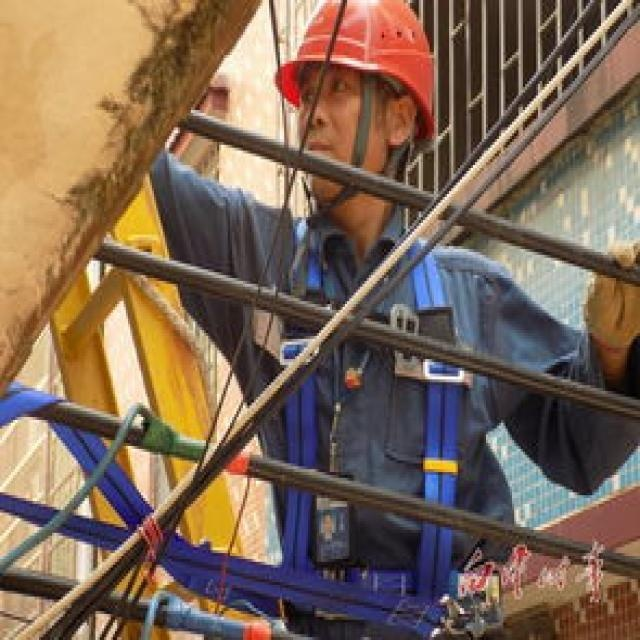Arnes_seguridad: (267, 197, 464, 631)
